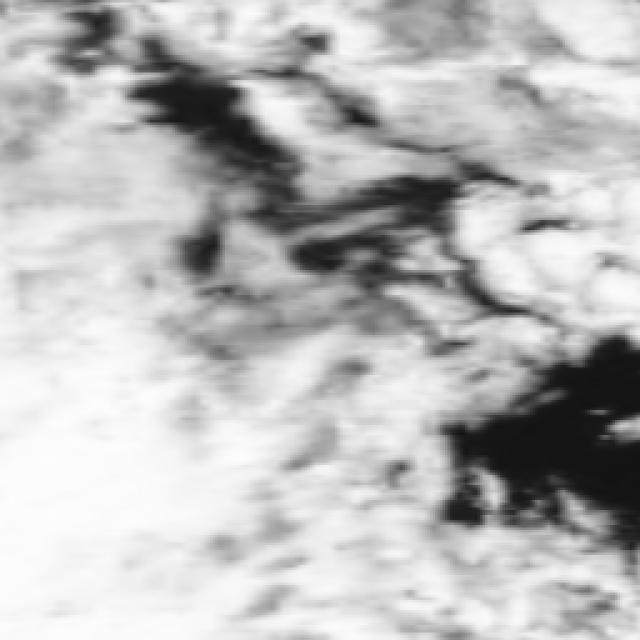CB: (7, 351, 190, 632)
